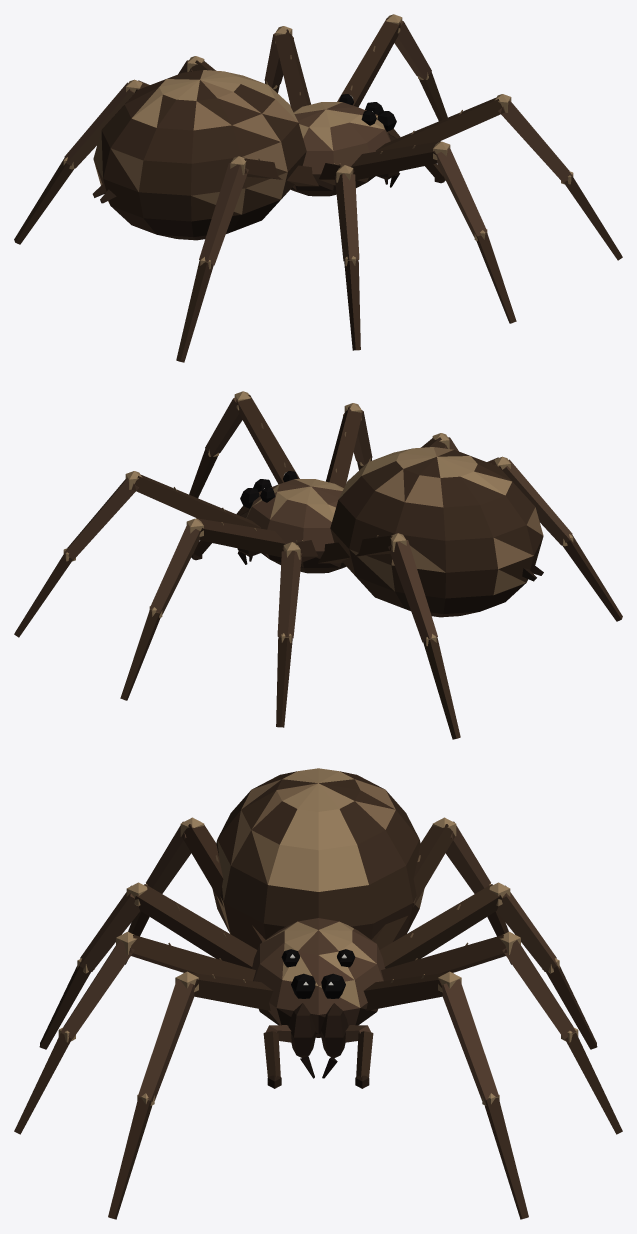
File: creatures-wolf-spider-crouched.glb
The picture shows the model from 3 angles, top to bottom: view 1: azimuth 30°, elevation 25°; view 2: azimuth 150°, elevation 25°; view 3: azimuth 270°, elevation 25°; orthographic projection. The views are drawn at different scales.
Size of the model in its own units: 33.72 by 14.53 by 33.36.
